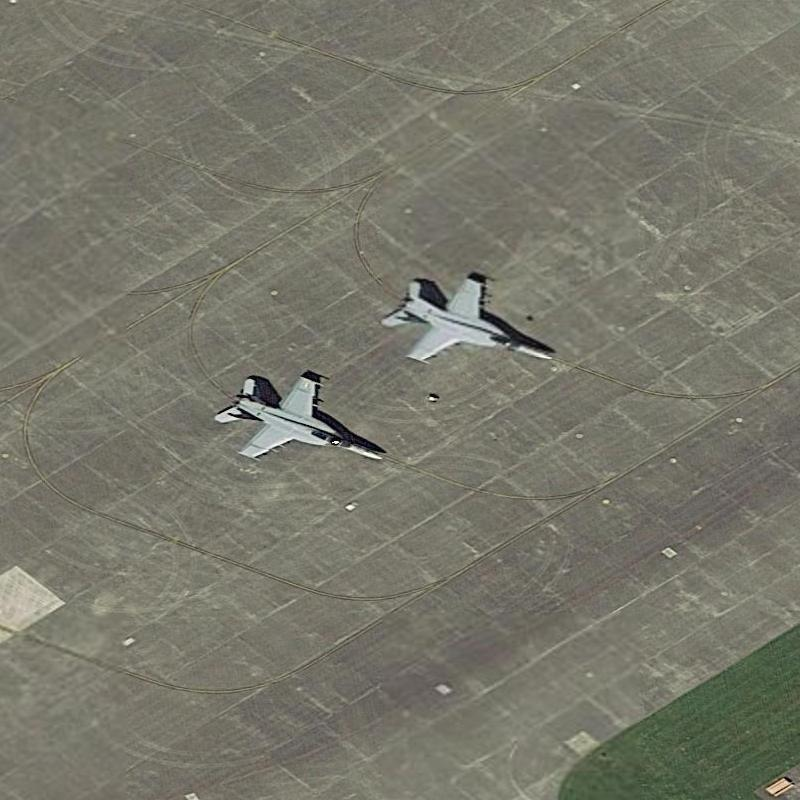A16: (372, 265, 564, 377), (210, 365, 389, 479)
